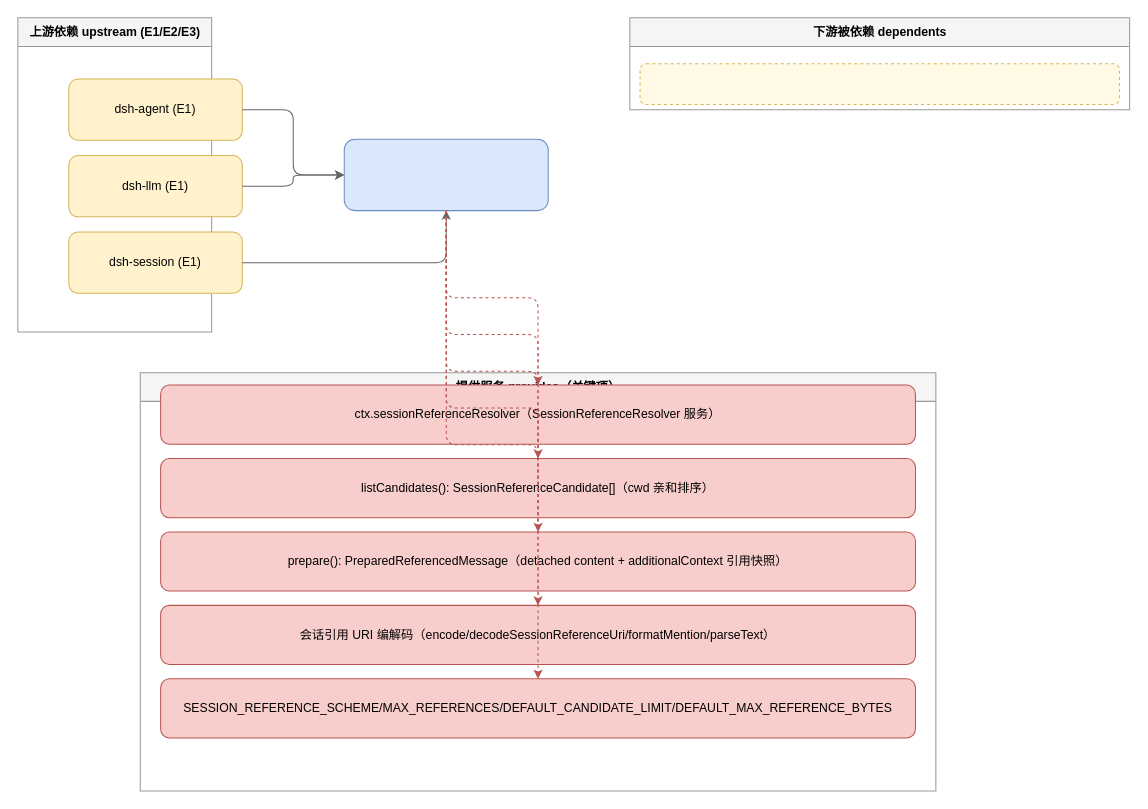
Some shapes in this 1148 by 809 pixel diagram are drawn without their labels. The centre of each missing label's shape, as x and y in pixels:
"@deepseek-ai/dsh-session-reference" belongs at (445,174).
"… 无下游依赖（L3 扩展点，共 0 个）" belongs at (879,84).
